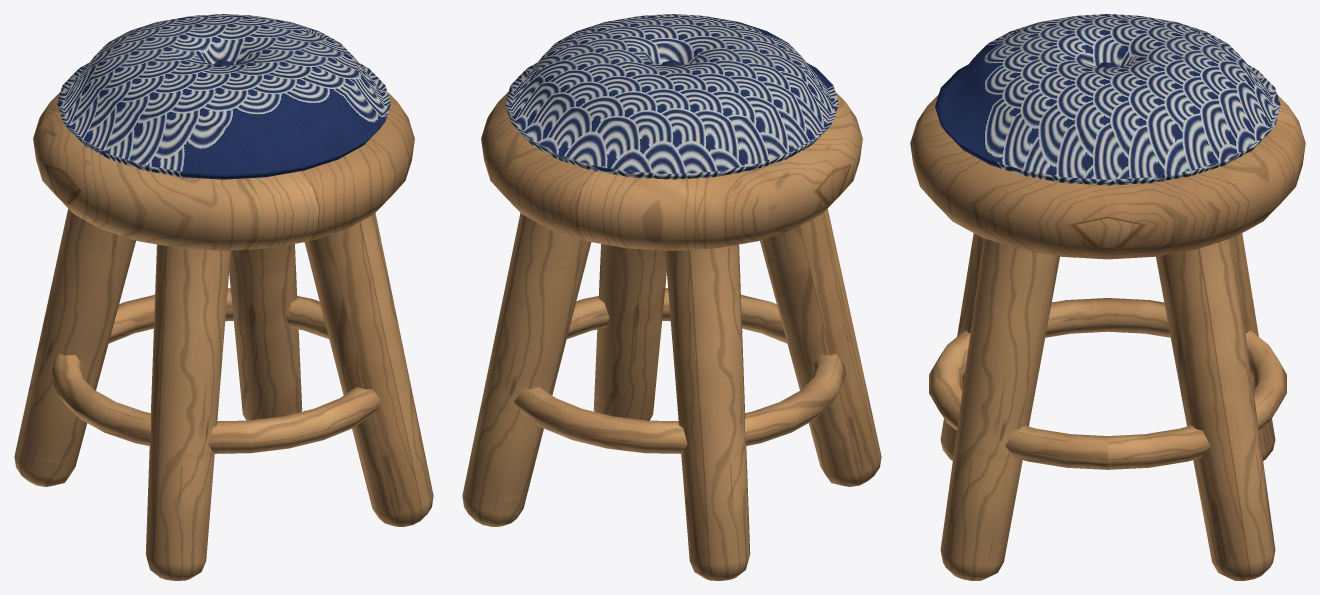
The model's file is stool.glb.
3 renders of one model, left to right at view 1: azimuth 30°, elevation 25°; view 2: azimuth 150°, elevation 25°; view 3: azimuth 270°, elevation 25°, orthographic. The views are drawn at different scales.
Parts seen in each view (by area): view 1: StoolCushion, StoolSeat, StoolLeg1, StoolLeg0, StoolLeg2, StoolRing0, StoolLeg3; view 2: StoolCushion, StoolSeat, StoolLeg2, StoolLeg3, StoolLeg1, StoolRing0, StoolLeg0; view 3: StoolCushion, StoolSeat, StoolLeg0, StoolLeg3, StoolRing0, StoolLeg1, StoolLeg2.
Part boxes in pixels (x1=…): StoolCushion: x1=57, y1=14, x2=390, y2=179; StoolSeat: x1=33, y1=92, x2=414, y2=250; StoolLeg1: x1=145, y1=244, x2=230, y2=580; StoolLeg0: x1=304, y1=213, x2=433, y2=526; StoolLeg2: x1=14, y1=208, x2=135, y2=486; StoolRing0: x1=50, y1=288, x2=381, y2=453; StoolLeg3: x1=229, y1=244, x2=302, y2=420; StoolCushion: x1=505, y1=14, x2=838, y2=179; StoolSeat: x1=481, y1=92, x2=862, y2=250; StoolLeg2: x1=665, y1=244, x2=750, y2=580; StoolLeg3: x1=462, y1=213, x2=591, y2=526; StoolLeg1: x1=760, y1=208, x2=881, y2=486; StoolRing0: x1=514, y1=288, x2=845, y2=453; StoolLeg0: x1=593, y1=244, x2=666, y2=420; StoolCushion: x1=935, y1=14, x2=1280, y2=185; StoolSeat: x1=910, y1=94, x2=1305, y2=259; StoolLeg0: x1=940, y1=238, x2=1059, y2=580; StoolLeg3: x1=1156, y1=238, x2=1275, y2=580; StoolRing0: x1=929, y1=298, x2=1286, y2=469; StoolLeg1: x1=940, y1=233, x2=983, y2=460; StoolLeg2: x1=1232, y1=233, x2=1275, y2=460.
Bounding box in the file's own units: 0.256 × 0.3345 × 0.256.
6 materials, 4 textured.
